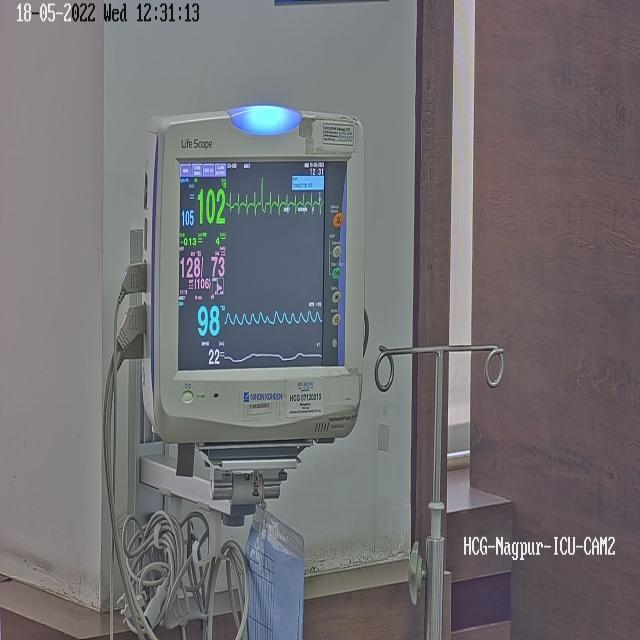Monitor: (141, 104, 367, 562)
